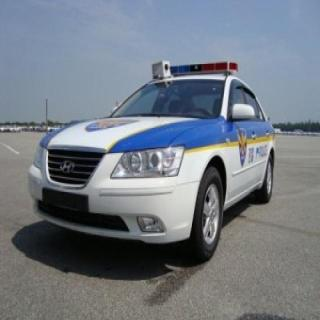Police_car: (27, 60, 277, 258)
